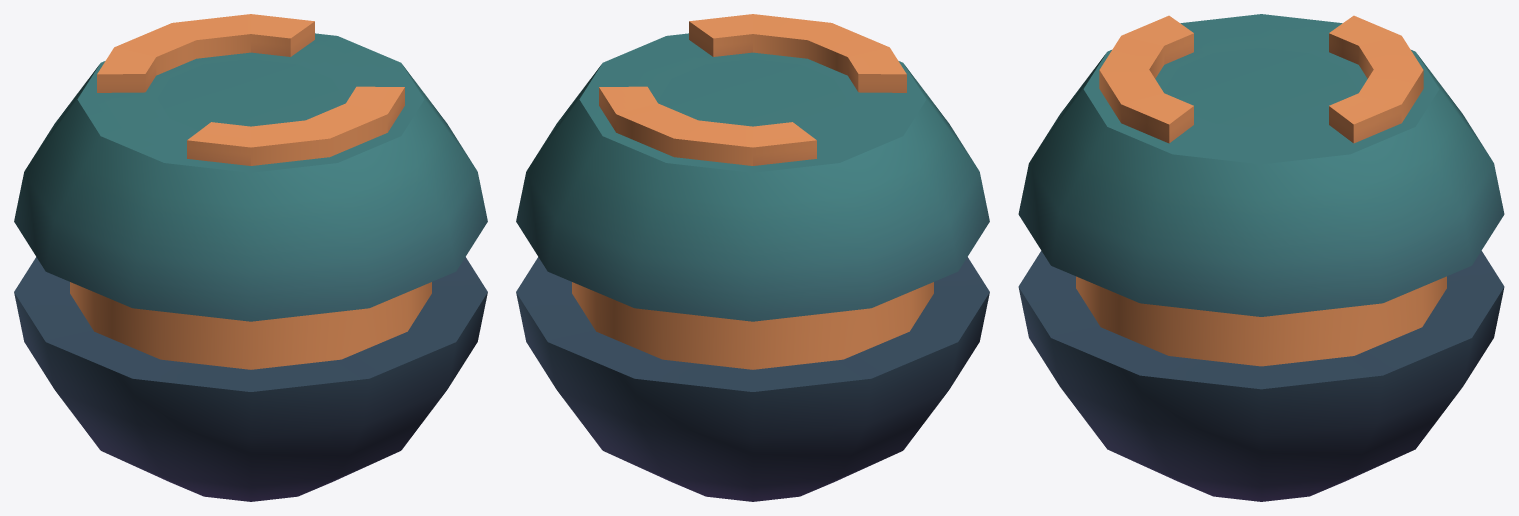
File: MDL_TowerTop_Splitter.fbx
3 renders of one model, left to right at view 1: azimuth 30°, elevation 25°; view 2: azimuth 150°, elevation 25°; view 3: azimuth 270°, elevation 25°, orthographic. The views are drawn at different scales.
Parts seen in each view (by area): view 1: MDL_TowerTop_Splitter; view 2: MDL_TowerTop_Splitter; view 3: MDL_TowerTop_Splitter.
Boxes of the visible parts, x1,y1,x2,y2 form: MDL_TowerTop_Splitter: (14, 14, 487, 501); MDL_TowerTop_Splitter: (516, 14, 989, 501); MDL_TowerTop_Splitter: (1018, 14, 1504, 501).
Bounding box in the file's own units: 0.5878 × 0.5459 × 0.5878.
